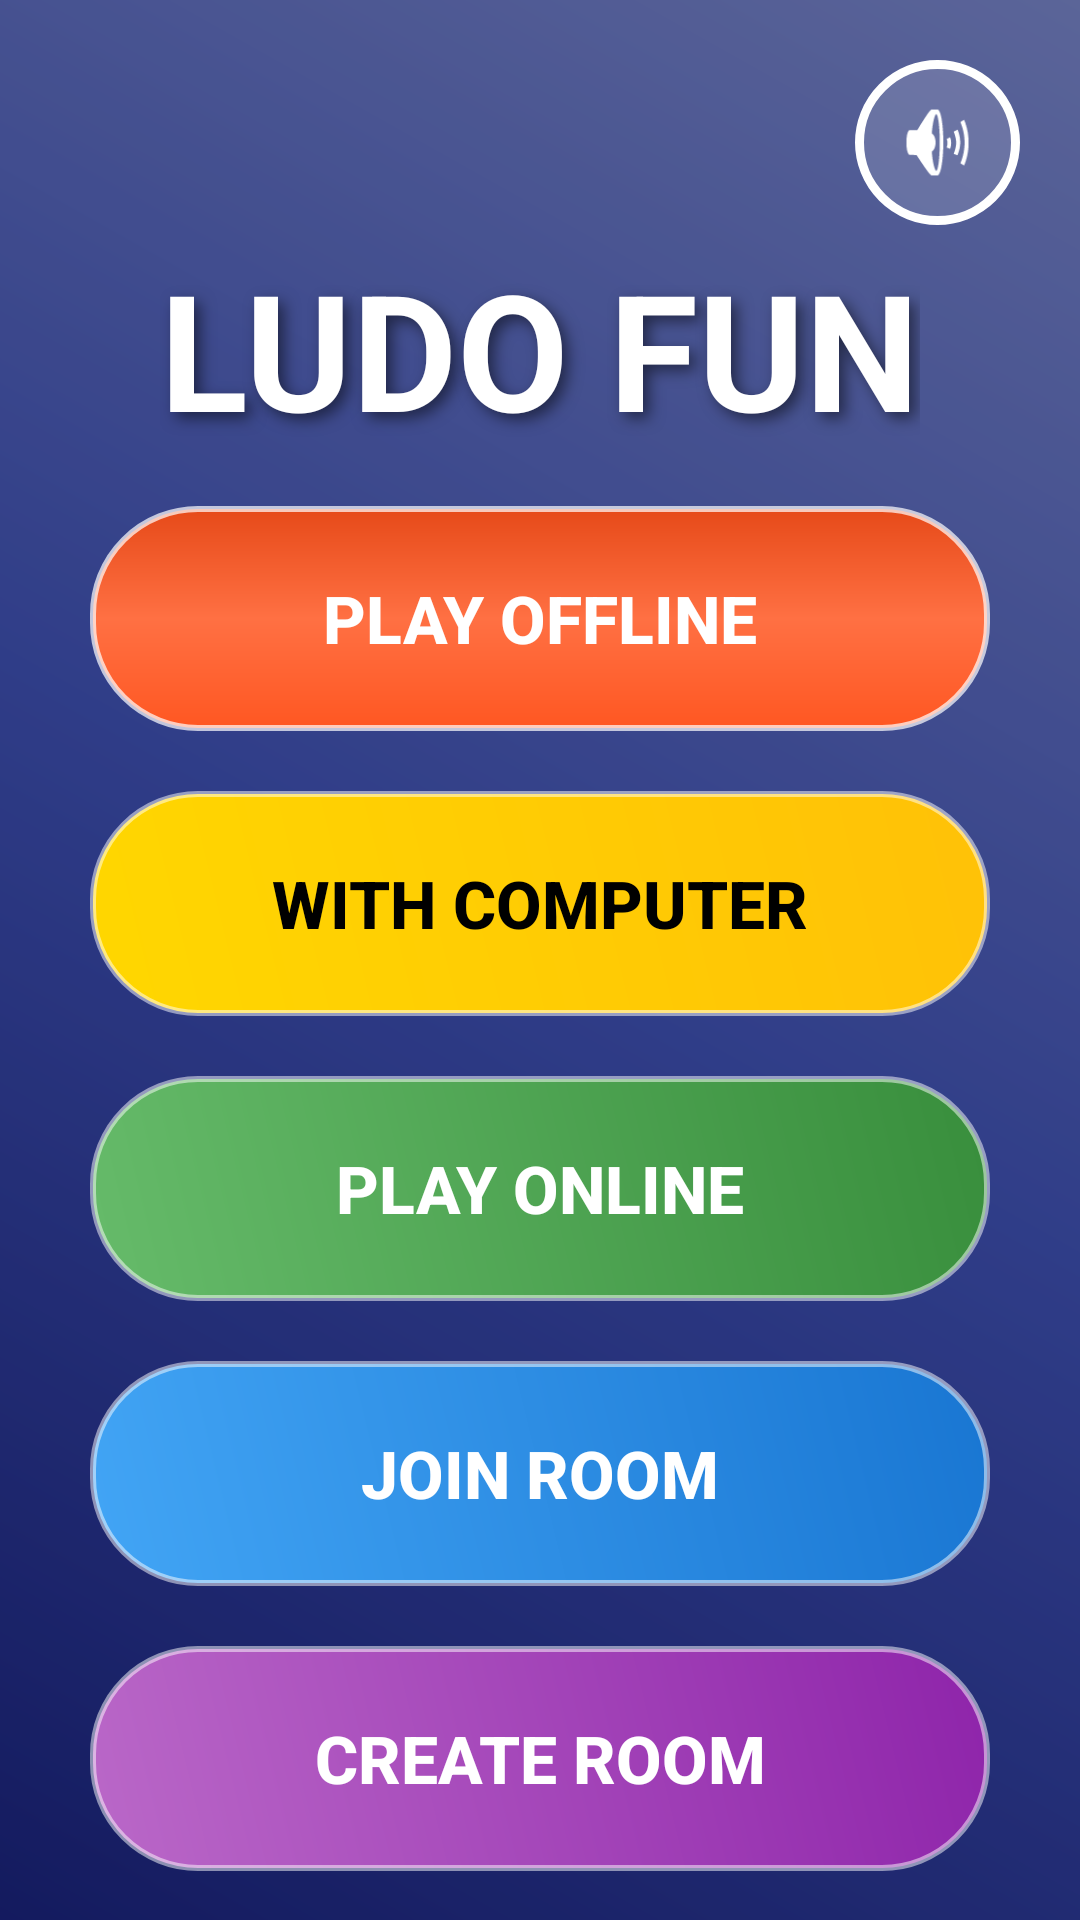

Icon bounding boxes for this 1080px x 1920px phone screenshot, format (x1, y1, x2, y2):
lock silent mode off: (855, 60, 1020, 225)
